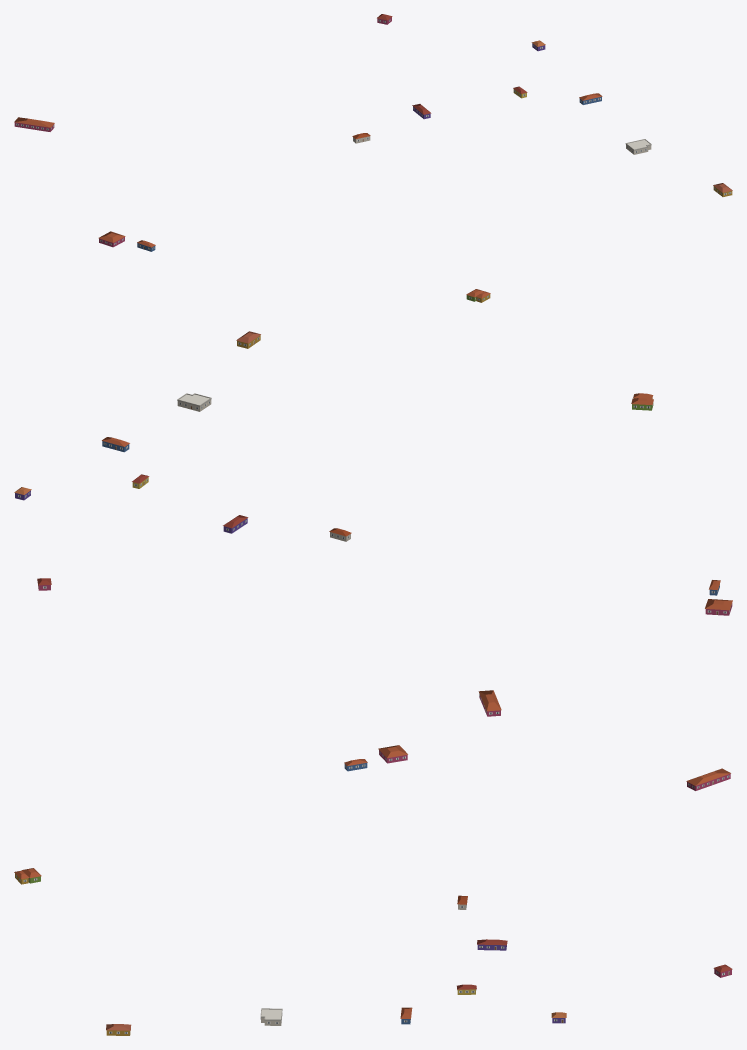
Rendered from msb_sannicolas_19_22.glb.
3 renders of one model, top to bottom at view 1: azimuth 30°, elevation 25°; view 2: azimuth 150°, elevation 25°; view 3: azimuth 270°, elevation 25°, orthographic. The views are drawn at different scales.
Visible parts, largest first — view 1: msb_sannicolas_19_22_lod0; view 2: msb_sannicolas_19_22_lod0; view 3: msb_sannicolas_19_22_lod0.
Boxes of the visible parts, box(x1,y1,x2,y2) form: msb_sannicolas_19_22_lod0: box(14, 14, 732, 302); msb_sannicolas_19_22_lod0: box(14, 331, 732, 716); msb_sannicolas_19_22_lod0: box(14, 745, 732, 1035).
Size of what is drawn, in the model's own units: 400 by 21.21 by 405.
Materials: 3 (1 with a texture image).
